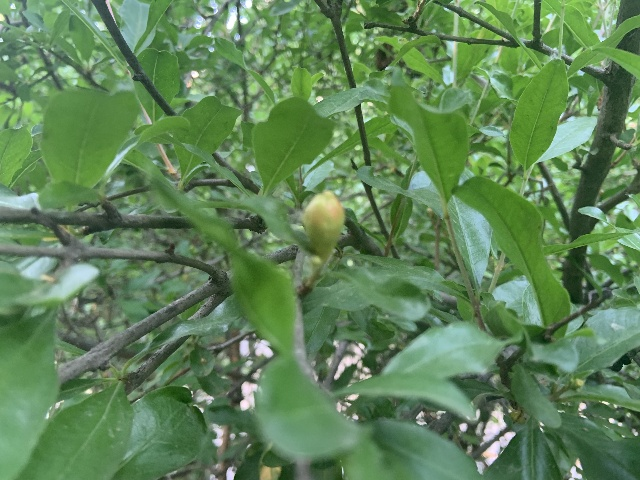bud: (306, 188, 344, 259)
